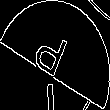P_SW: (34, 24, 76, 86)
